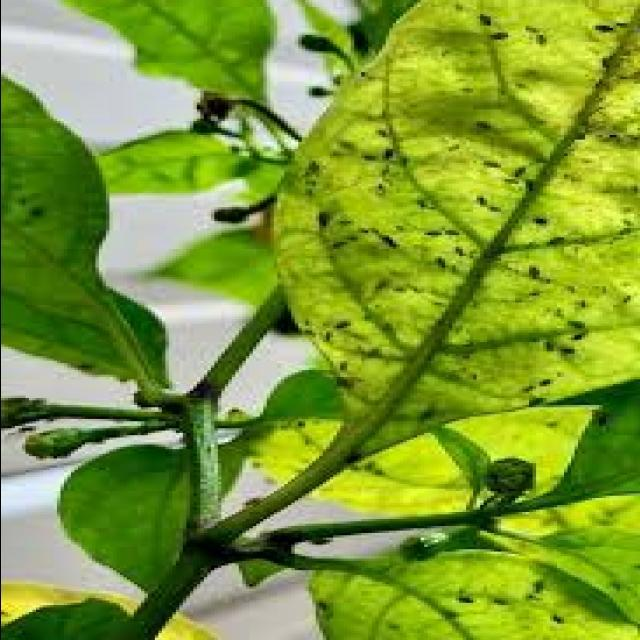aphid: (588, 18, 626, 42), (539, 232, 577, 256), (524, 577, 560, 601), (412, 407, 448, 431), (468, 118, 504, 140), (378, 232, 410, 256), (430, 254, 462, 278), (468, 190, 496, 217), (472, 9, 500, 35), (28, 202, 56, 226), (378, 144, 406, 168), (521, 262, 549, 286), (532, 212, 564, 233), (486, 198, 511, 224), (535, 374, 563, 396), (483, 30, 521, 46), (570, 328, 598, 349), (311, 212, 339, 233), (560, 342, 588, 363), (451, 594, 483, 612), (308, 534, 340, 552), (518, 180, 550, 198), (238, 494, 270, 512), (538, 418, 570, 436), (479, 158, 511, 174), (549, 612, 577, 630), (524, 396, 552, 414), (332, 358, 360, 376), (605, 580, 633, 598), (14, 424, 46, 439), (490, 596, 518, 612), (77, 361, 105, 377), (332, 319, 360, 335), (441, 226, 468, 242), (298, 433, 322, 451), (385, 620, 409, 638), (542, 342, 566, 358), (423, 228, 448, 242), (360, 461, 384, 475)
